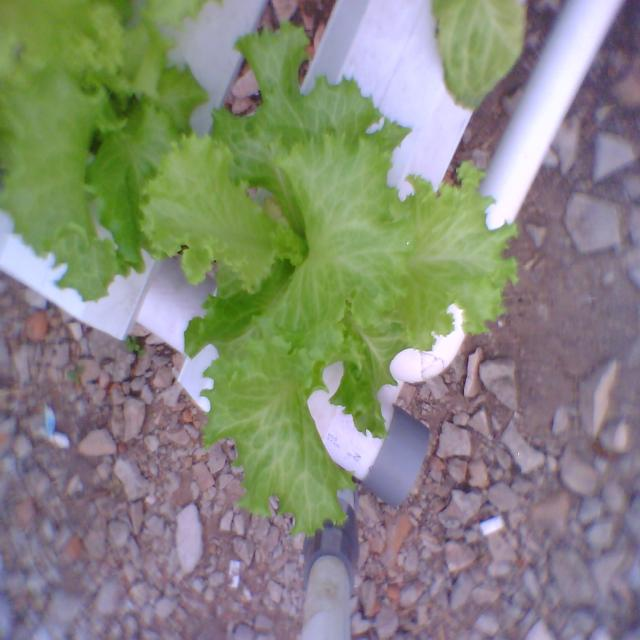FN: (145, 16, 520, 548), (0, 0, 205, 316)
